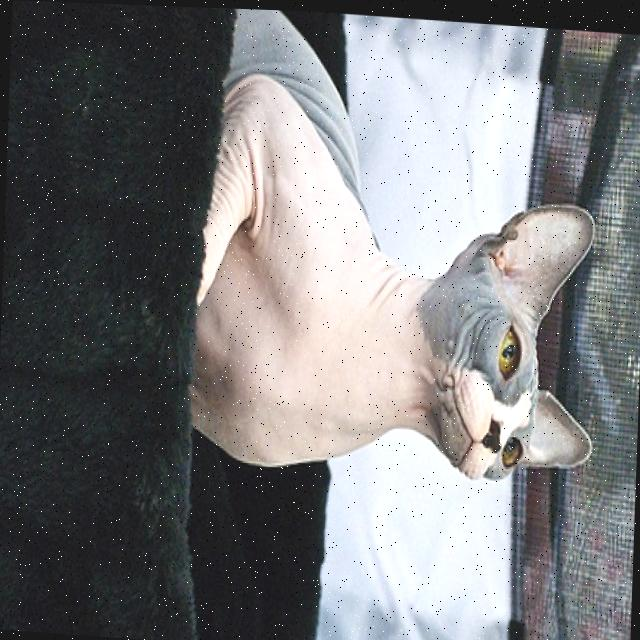Sphynx: (187, 5, 609, 492)
